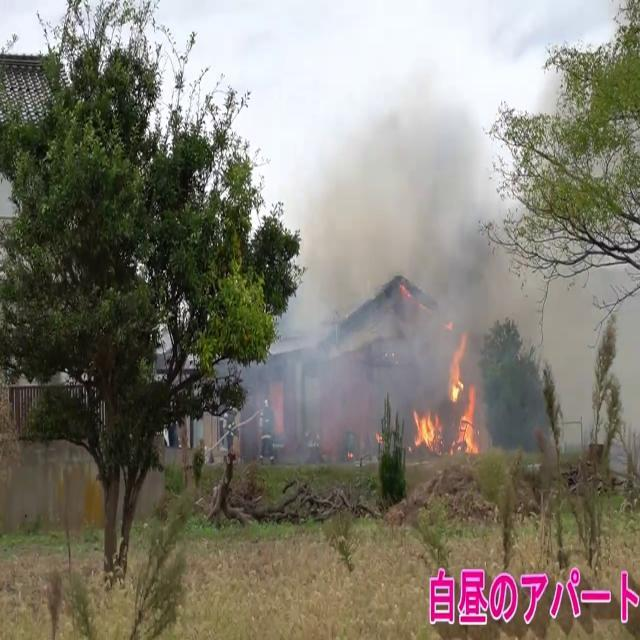Fire: (444, 330, 480, 456), (409, 400, 442, 452)
Smoke: (260, 31, 548, 446)
